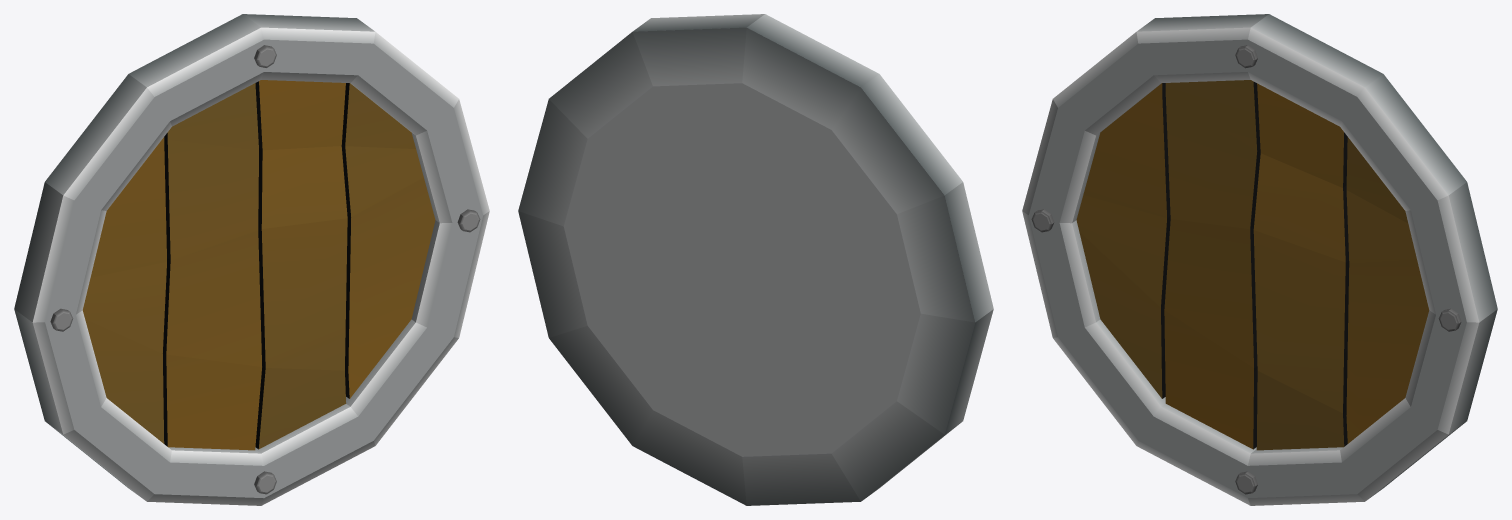
Rendered from shield_3.glb.
The picture shows the model from 3 angles, left to right: view 1: azimuth 30°, elevation 25°; view 2: azimuth 150°, elevation 25°; view 3: azimuth 330°, elevation 25°; orthographic projection.
Parts seen in each view (by area): view 1: shield_3; view 2: shield_3; view 3: shield_3.
Part boxes in pixels (<box>): shield_3: <box>14,14,489,505</box>; shield_3: <box>518,14,993,505</box>; shield_3: <box>1022,14,1497,505</box>.
Size of the model in its own units: 0.5055 by 0.5055 by 0.0551.
1 material, 1 textured.
